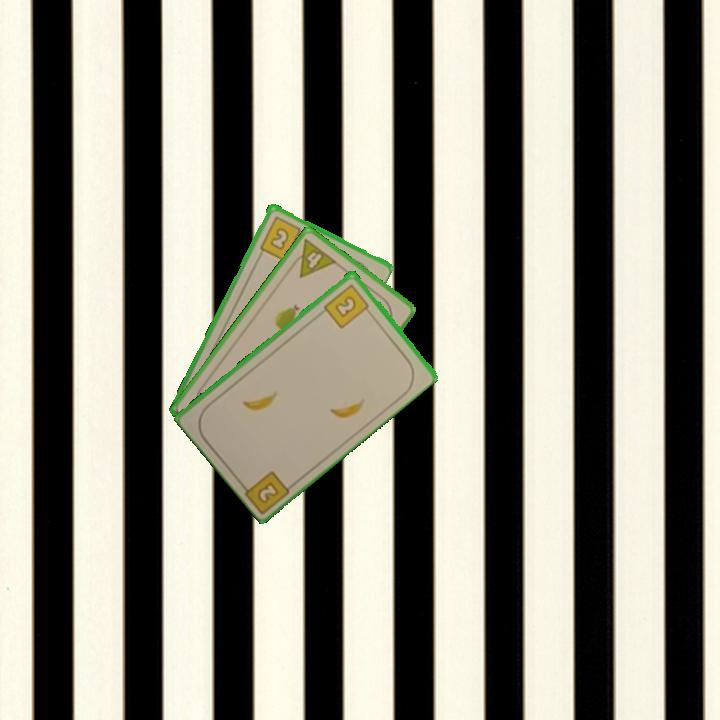2b: (320, 280, 373, 331), (256, 212, 308, 263), (253, 478, 282, 506)
4p: (285, 235, 340, 280)
